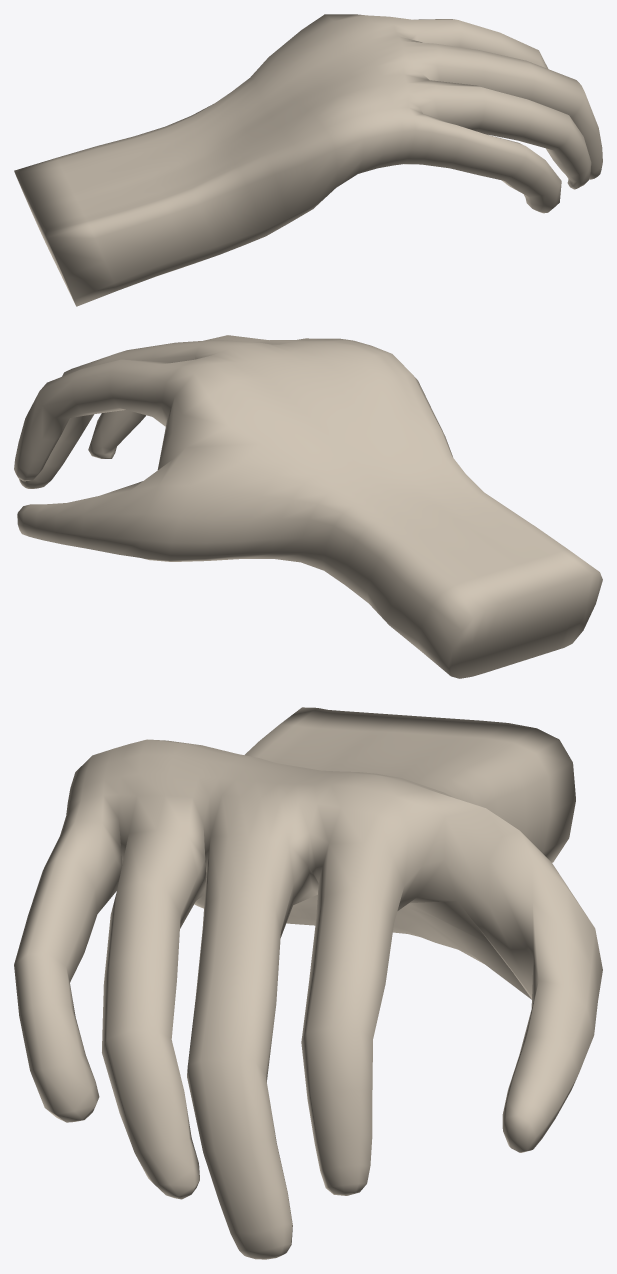
The model's file is Hand Open.fbx.
3 renders of one model, top to bottom at view 1: azimuth 30°, elevation 25°; view 2: azimuth 150°, elevation 25°; view 3: azimuth 270°, elevation 25°, orthographic. The views are drawn at different scales.
Parts seen in each view (by area): view 1: Cube; view 2: Cube; view 3: Cube.
Boxes of the visible parts, <box> form: Cube: <box>14,14,602,306</box>; Cube: <box>14,335,602,678</box>; Cube: <box>14,707,602,1259</box>.
Size of the model in its own units: 401 by 138 by 219.
